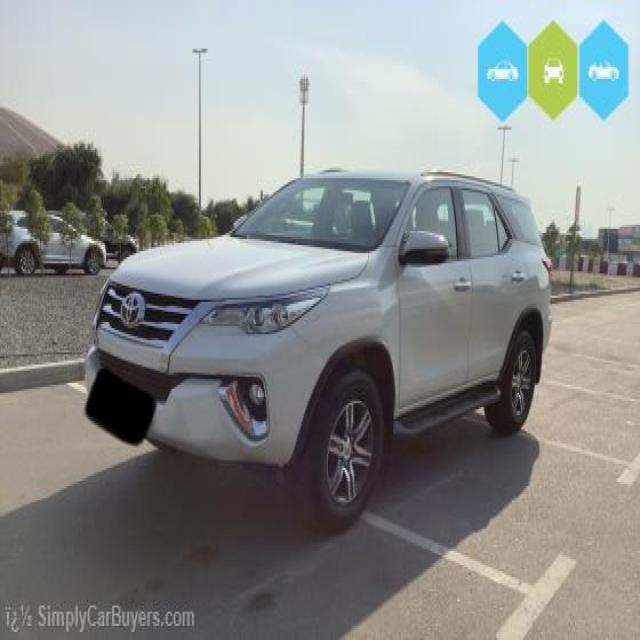light_vehicle: (83, 168, 552, 533)
